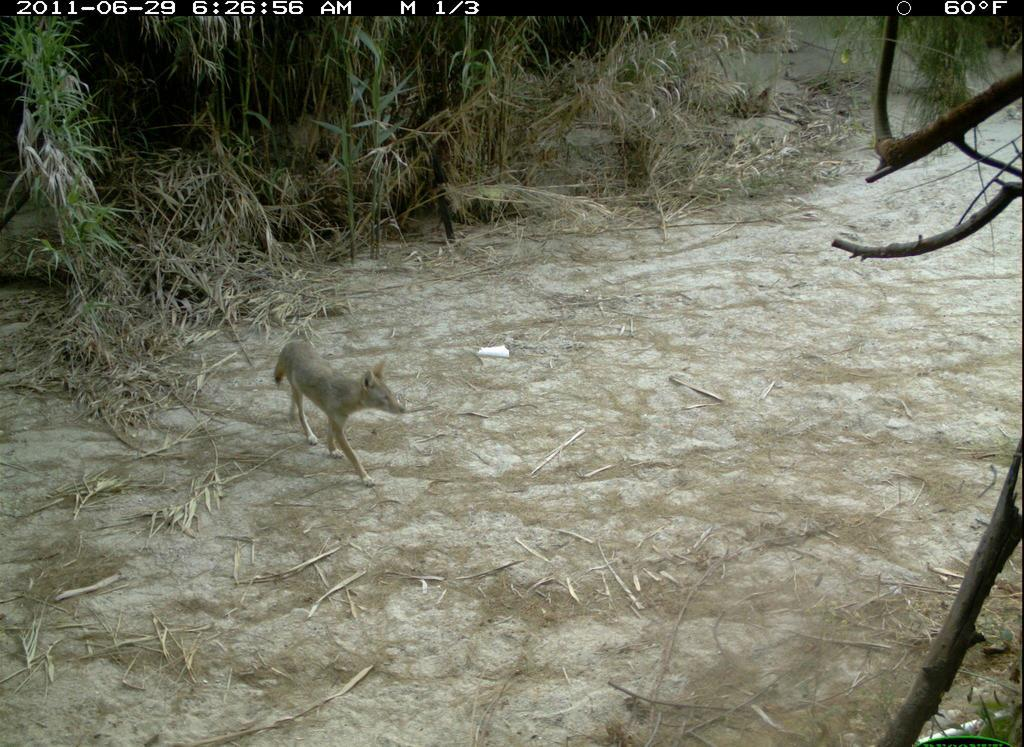coyote: (265, 337, 418, 489)
